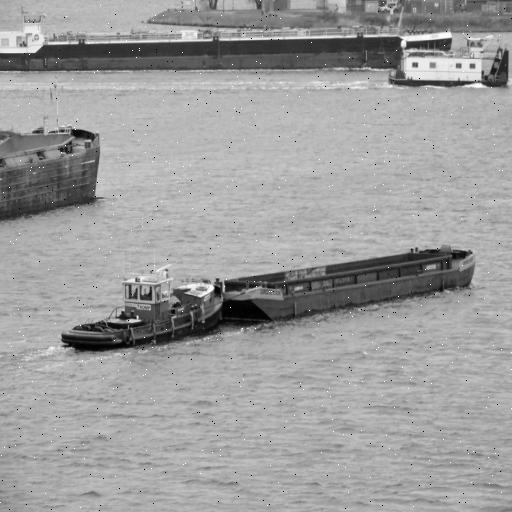tugboat: (58, 260, 226, 357), (386, 34, 512, 95)
